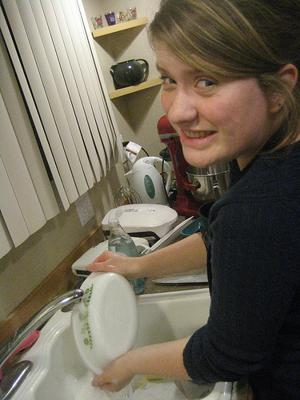person: (84, 2, 298, 400)
